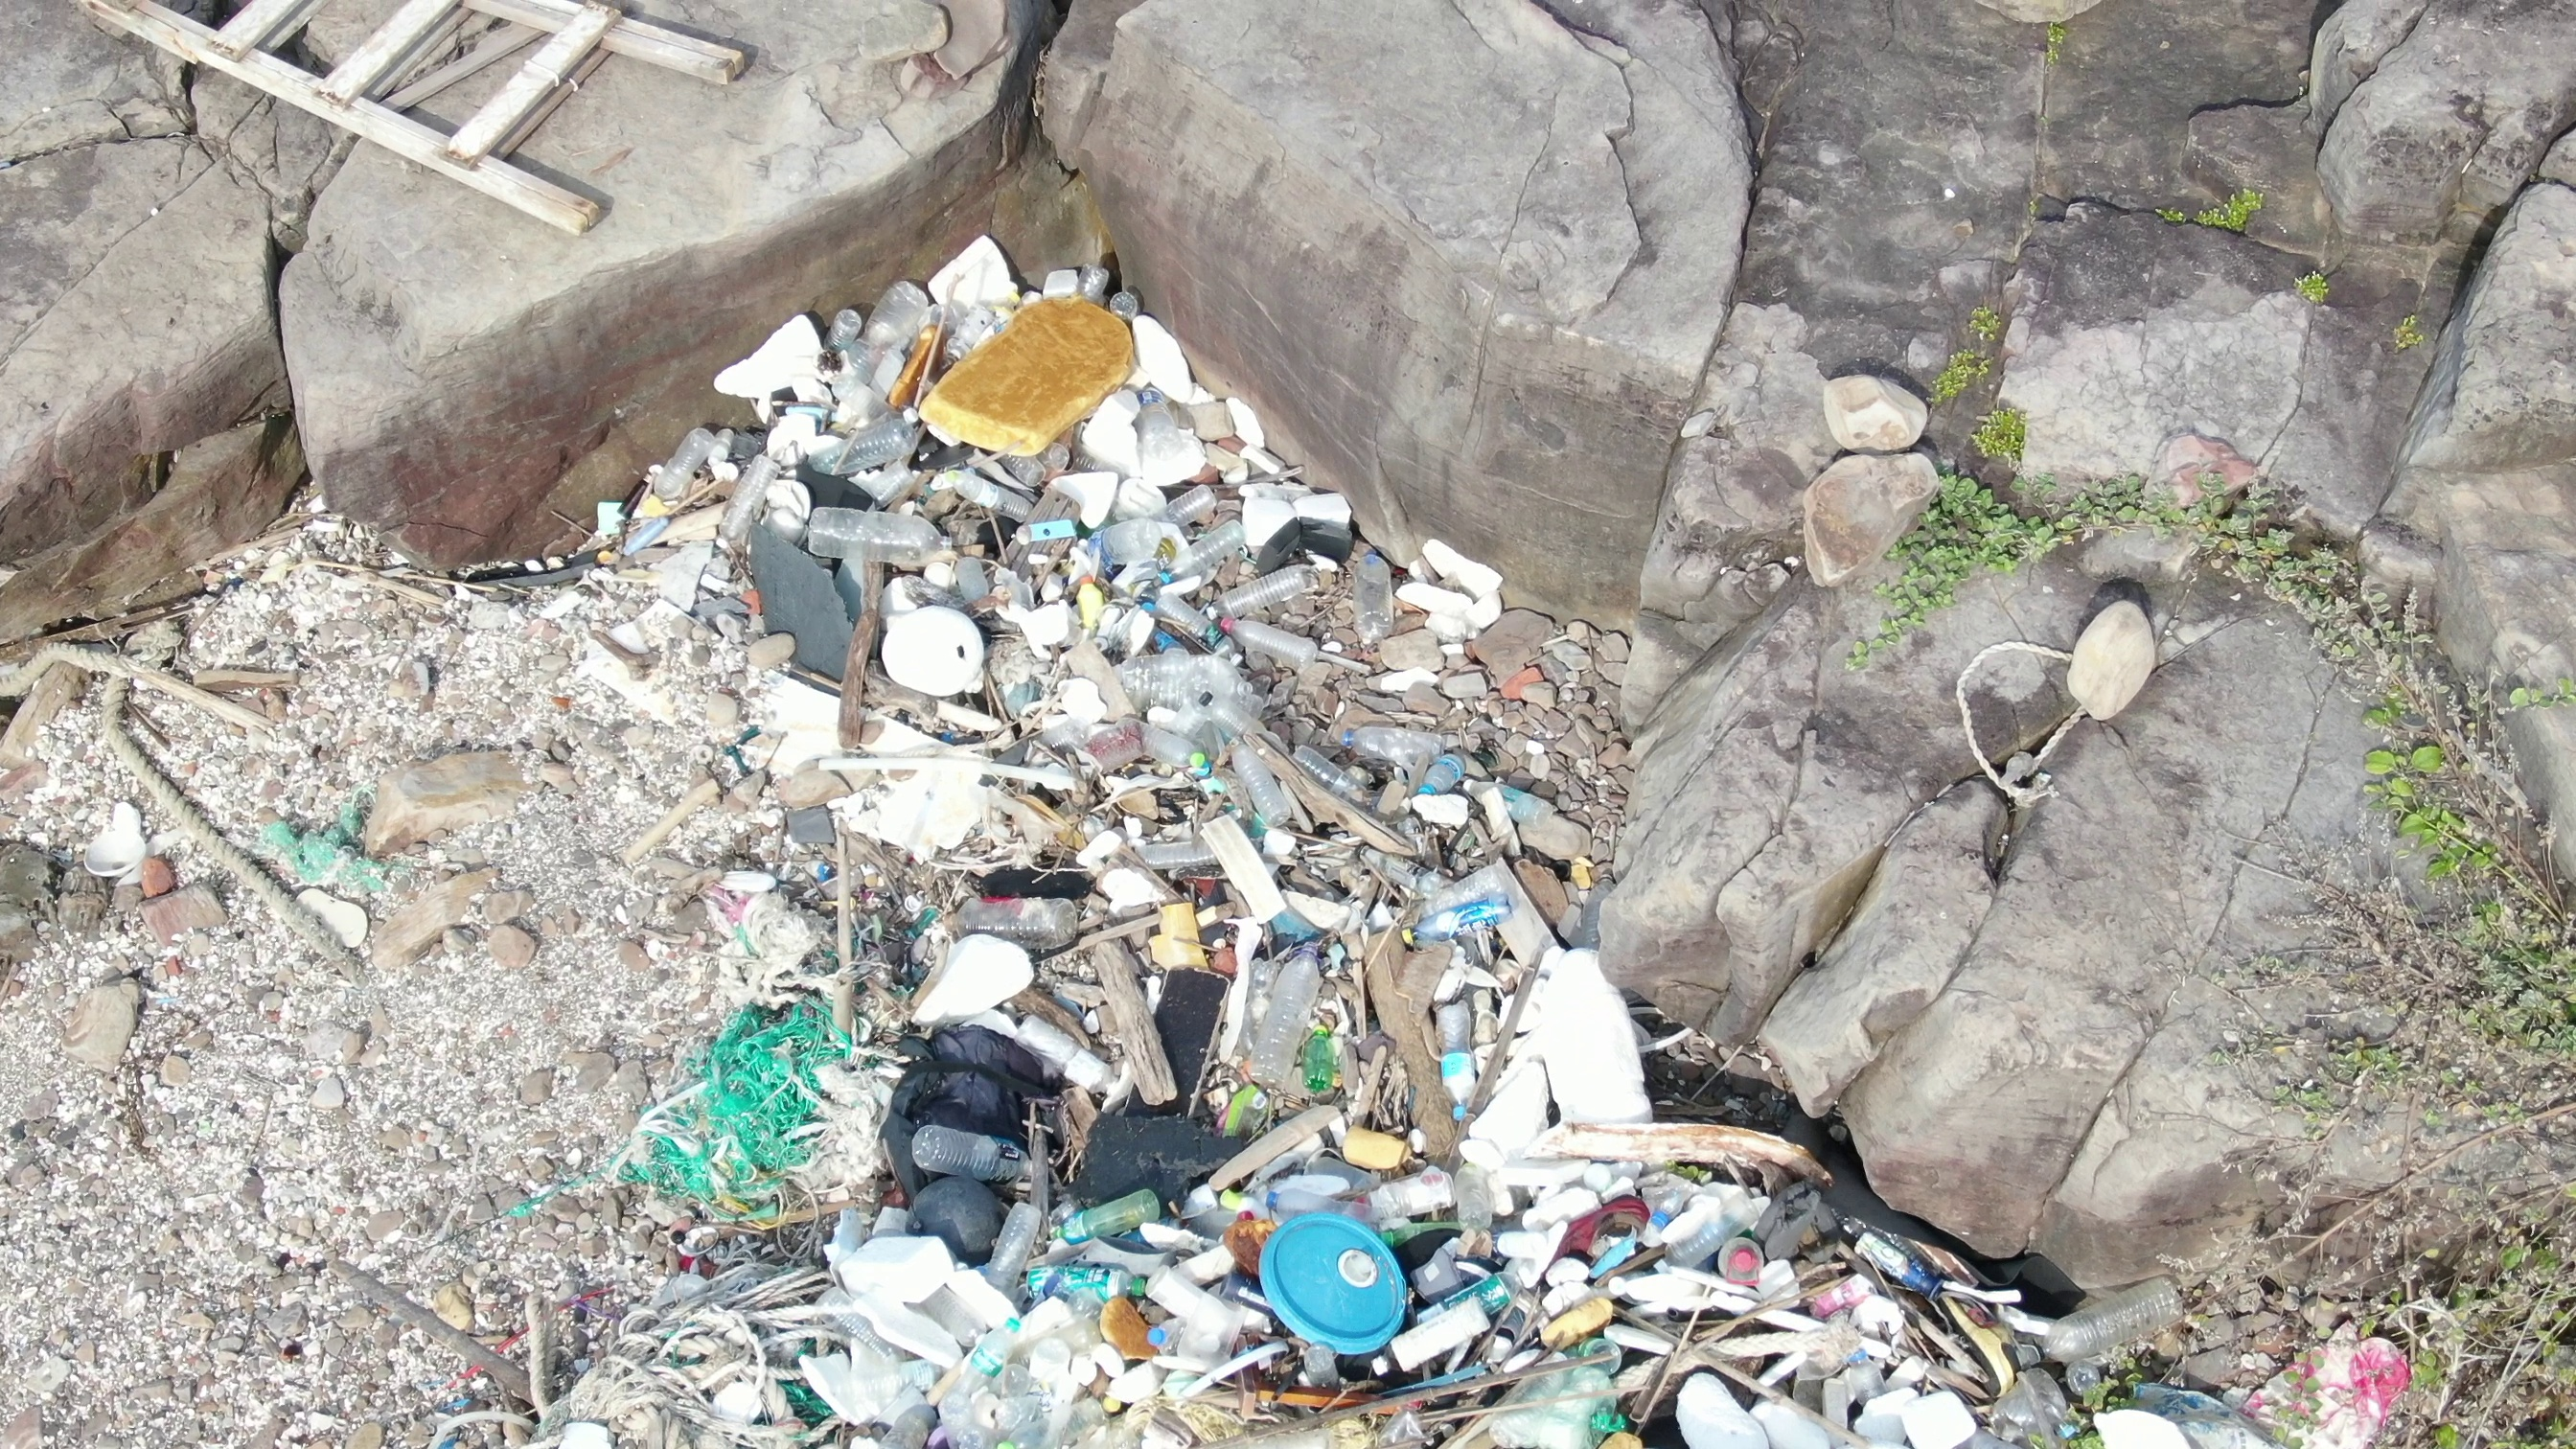bottle: (2006, 1272, 2201, 1373), (1244, 931, 1332, 1102), (906, 1106, 1063, 1201), (1644, 1185, 1767, 1293), (1348, 1307, 1504, 1392), (810, 492, 964, 571), (924, 885, 1085, 955), (927, 439, 1047, 525), (939, 1302, 1031, 1414), (1401, 1267, 1525, 1343), (1046, 1182, 1191, 1246), (865, 249, 952, 349), (1329, 711, 1474, 770), (1396, 890, 1525, 955), (715, 435, 784, 556), (642, 416, 725, 515), (1024, 1253, 1159, 1313), (810, 407, 924, 476), (1104, 649, 1242, 706), (1207, 718, 1281, 819), (1258, 1182, 1415, 1228), (1286, 738, 1373, 819), (1431, 1003, 1483, 1129), (1223, 612, 1316, 674), (1215, 557, 1327, 609), (1155, 586, 1231, 658), (1350, 545, 1407, 642), (1127, 483, 1223, 540), (1134, 382, 1189, 478), (793, 297, 865, 364), (1300, 1016, 1352, 1109), (1488, 773, 1557, 840), (1415, 738, 1474, 814), (1293, 1339, 1343, 1401)
garbage: (451, 924, 2413, 1449), (660, 168, 1546, 1023), (71, 2, 738, 248), (5, 593, 389, 987), (1927, 614, 2109, 817)
